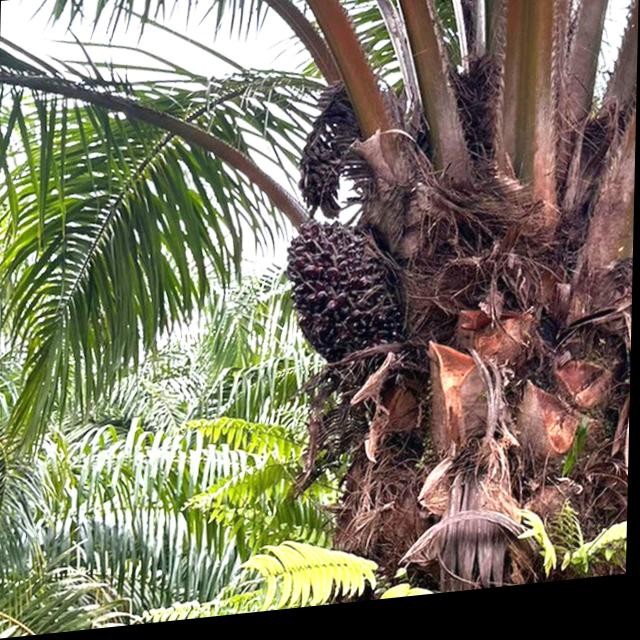ripe: (279, 207, 405, 379)
